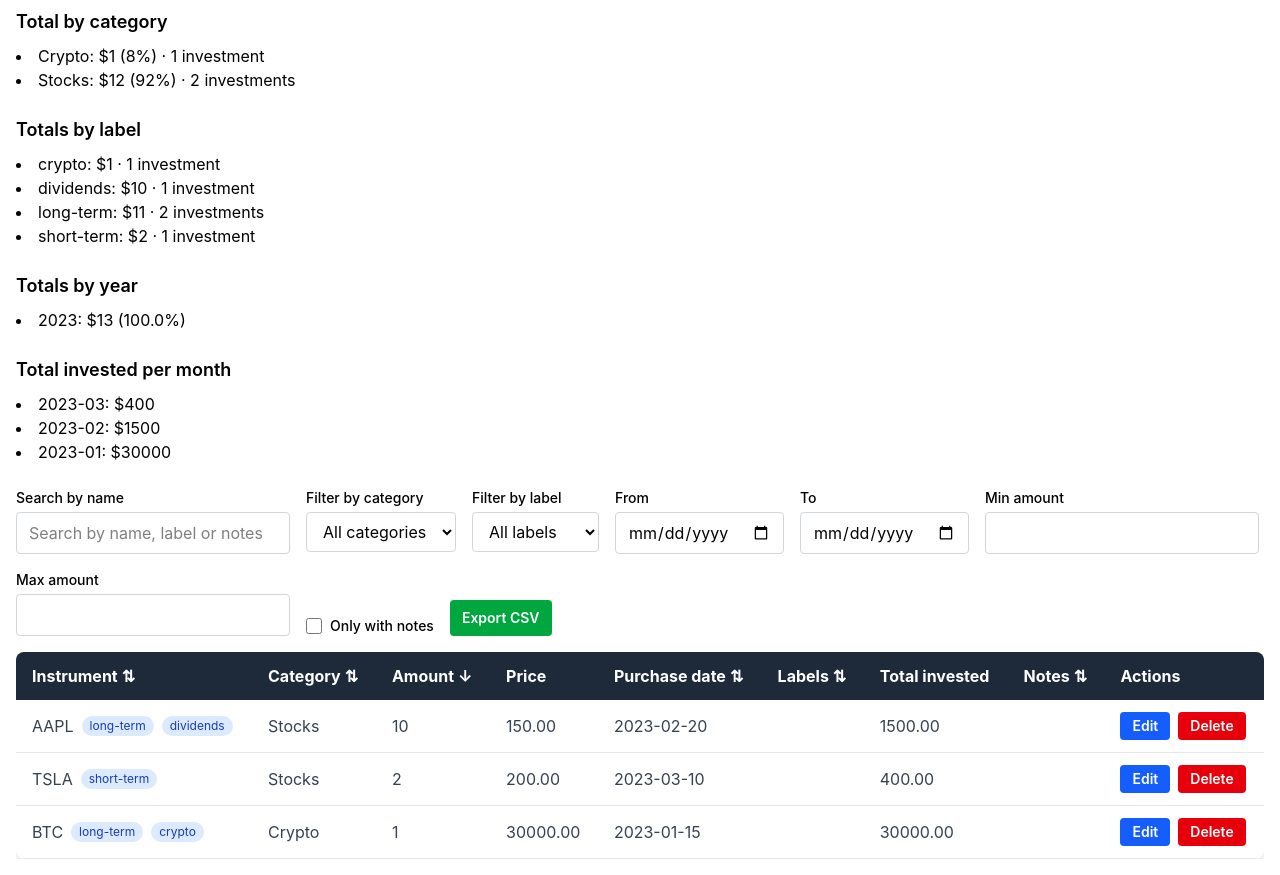
it: HomePage › filter by custom label › AC-002: shows only investments that include the selected label
The image size is (1280, 875).
(page scrolled)
Step 1. Select "long-term" in the dropdown labelled "Filter by label" → [536, 532], box top-left (472, 512), bottom-right (599, 552)
(page scrolled)
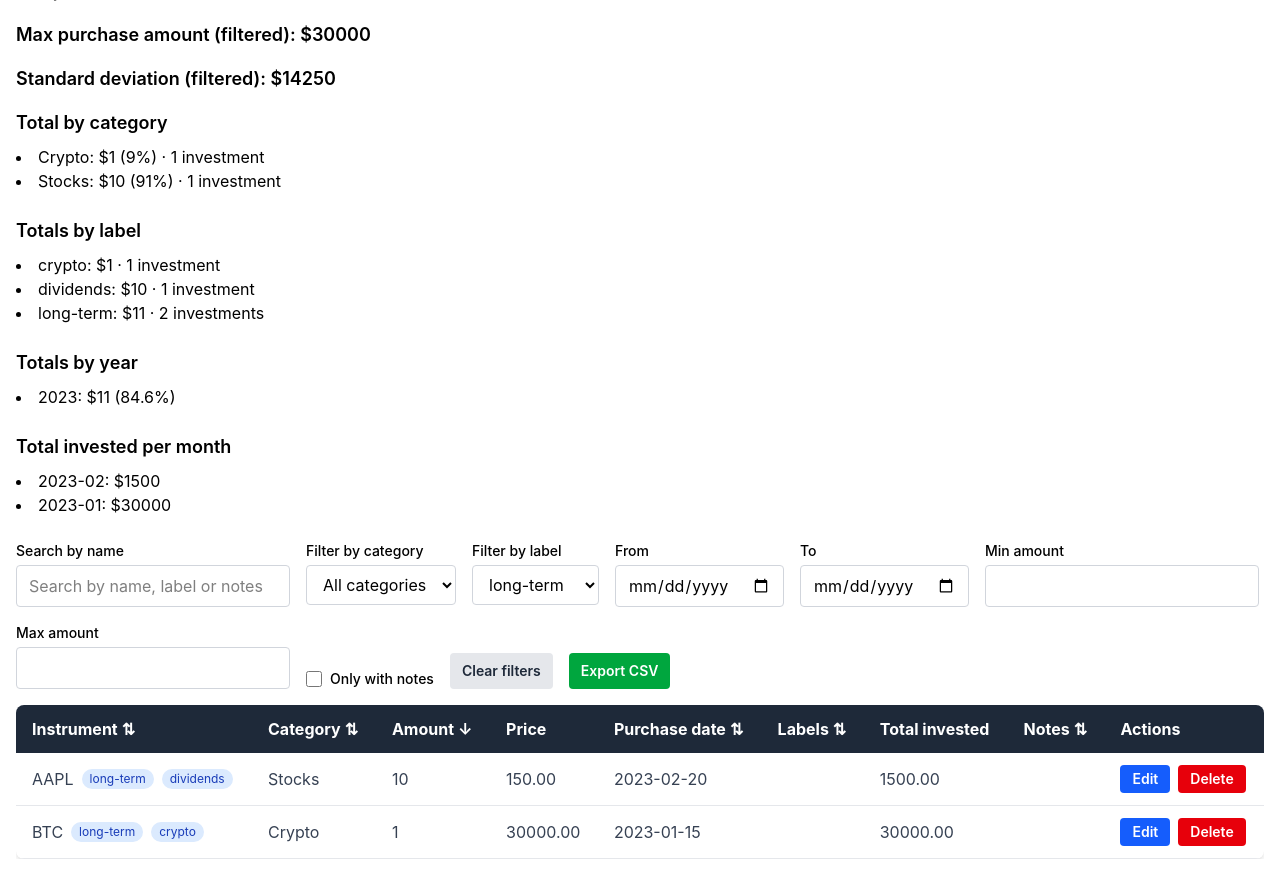
Expected: the text "BTC" is shown, top-left (32, 820), bottom-right (63, 844)
Now the text "TSLA" is gone
